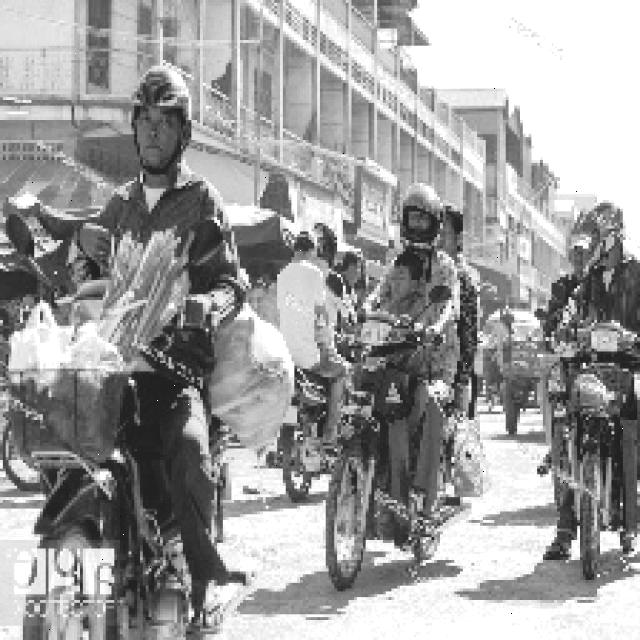Bike: (320, 314, 450, 578), (547, 322, 633, 567)
